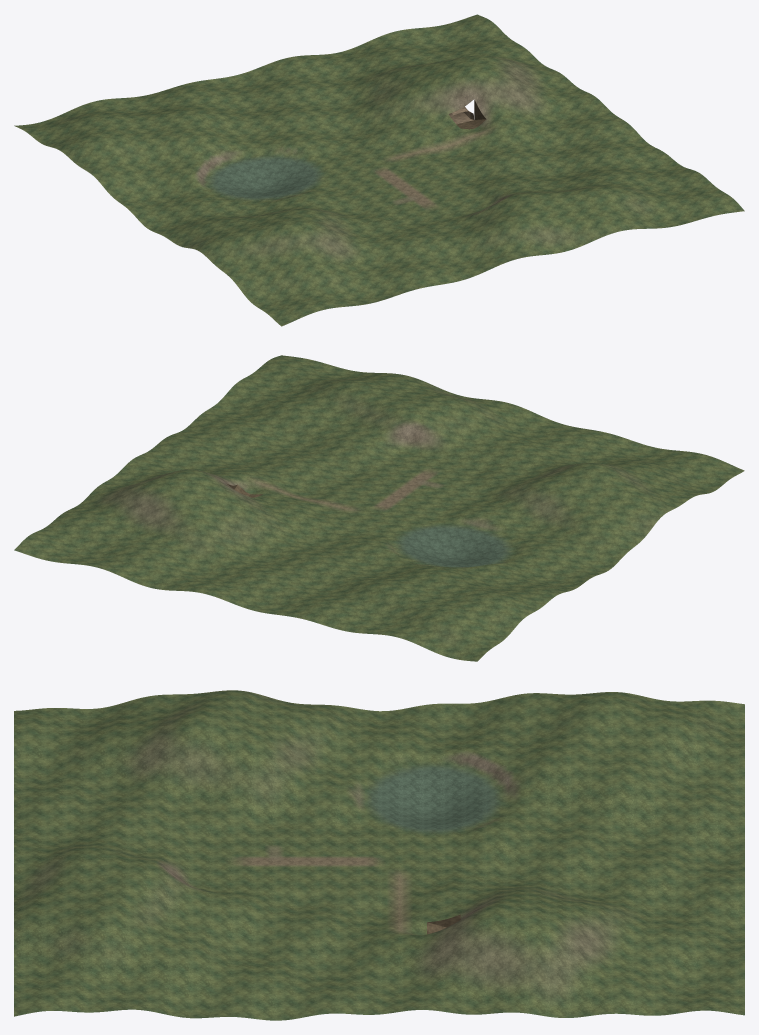
File: continuous-valley.glb
3 views of the same model, one above another, from view 1: azimuth 30°, elevation 25°; view 2: azimuth 150°, elevation 25°; view 3: azimuth 270°, elevation 25° (orthographic). The views are drawn at different scales.
Parts seen in each view (by area): view 1: Connected valley and pond bed; view 2: Connected valley and pond bed; view 3: Connected valley and pond bed.
Part boxes in pixels (box(x1,y1,x2,y2)): Connected valley and pond bed: box(14, 14, 744, 326); Connected valley and pond bed: box(14, 355, 744, 661); Connected valley and pond bed: box(14, 690, 744, 1020).
Size of the model in its own units: 108 by 9.77 by 108.
3 materials, 3 textured.
